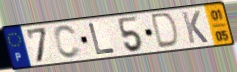5: (115, 15, 145, 54)
7: (25, 25, 51, 64)
C: (52, 24, 84, 61)
D: (150, 11, 180, 50)
K: (180, 10, 210, 45)
L: (87, 22, 118, 57)
